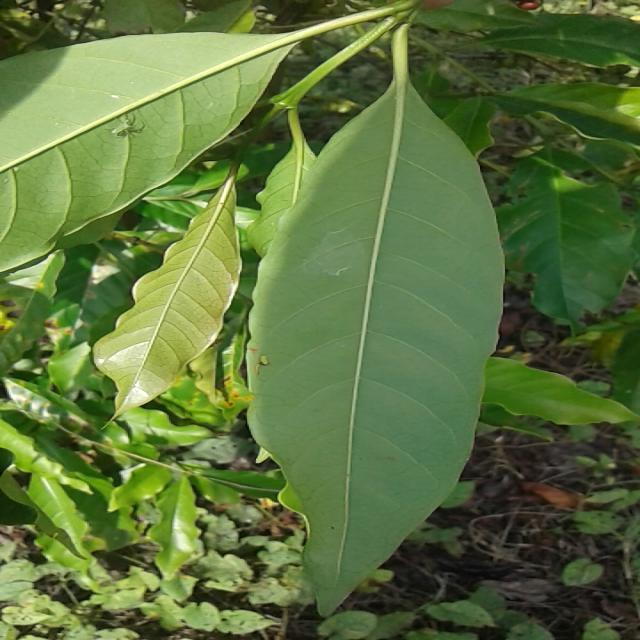Plaga-AranaRoja: (247, 25, 505, 622)
